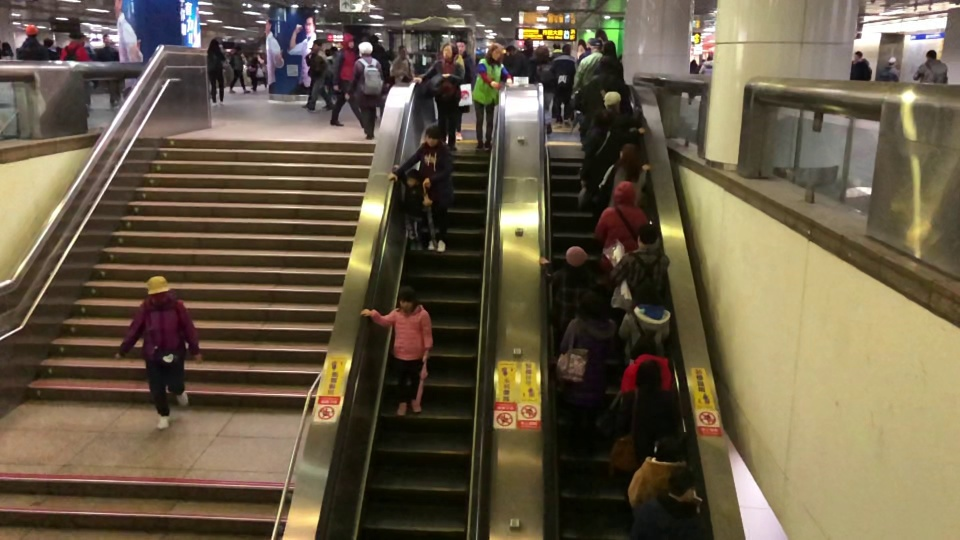person_head: (575, 288, 607, 326), (668, 462, 697, 503), (633, 358, 664, 393), (630, 282, 661, 310), (145, 274, 172, 306), (651, 434, 680, 463), (615, 142, 643, 172), (563, 244, 590, 274), (634, 221, 659, 251), (612, 179, 636, 208), (633, 332, 658, 357), (587, 110, 611, 131), (398, 286, 418, 311), (423, 124, 442, 147), (597, 54, 618, 74), (485, 41, 504, 63), (604, 90, 623, 112), (404, 169, 421, 188), (534, 44, 550, 63), (601, 39, 616, 58), (357, 39, 373, 56), (442, 42, 456, 59), (590, 39, 603, 54), (342, 33, 354, 49), (455, 39, 466, 56), (25, 24, 38, 38), (505, 43, 519, 56), (68, 30, 82, 41), (925, 49, 937, 61), (523, 37, 534, 50), (884, 56, 897, 67), (852, 49, 862, 63), (310, 39, 323, 49), (561, 44, 572, 55), (398, 45, 407, 58), (209, 38, 219, 49), (102, 33, 111, 45), (233, 46, 242, 55)
person_vbox: (114, 276, 204, 431), (553, 289, 619, 447), (359, 285, 433, 417), (386, 126, 455, 253), (597, 224, 670, 323), (629, 464, 711, 540), (620, 360, 683, 457), (577, 111, 646, 197), (624, 435, 694, 515), (537, 245, 596, 338), (413, 43, 464, 150), (593, 180, 650, 274), (471, 42, 513, 153), (618, 282, 672, 368), (344, 41, 385, 140), (568, 57, 633, 115), (597, 143, 653, 208), (329, 30, 364, 131), (618, 333, 672, 394), (392, 167, 427, 252), (304, 39, 336, 113), (550, 45, 577, 129), (530, 46, 555, 134), (455, 40, 475, 140), (571, 38, 603, 98), (97, 33, 122, 108), (911, 49, 950, 84), (206, 37, 225, 107), (227, 46, 252, 95), (16, 24, 50, 60), (591, 41, 623, 79), (503, 43, 534, 82), (60, 29, 90, 62), (389, 45, 415, 82), (850, 48, 872, 81), (521, 37, 536, 78), (880, 55, 900, 82)
